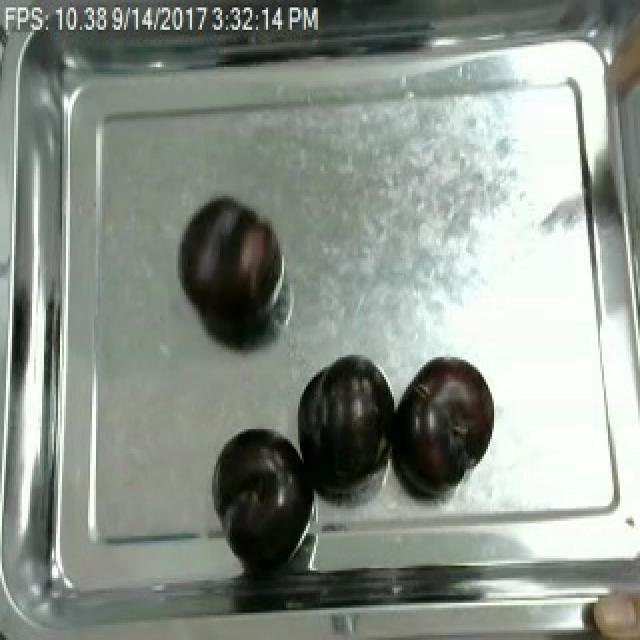Fruit: (208, 424, 318, 568), (388, 350, 500, 491), (174, 208, 278, 345), (294, 354, 396, 488), (582, 575, 640, 640)
